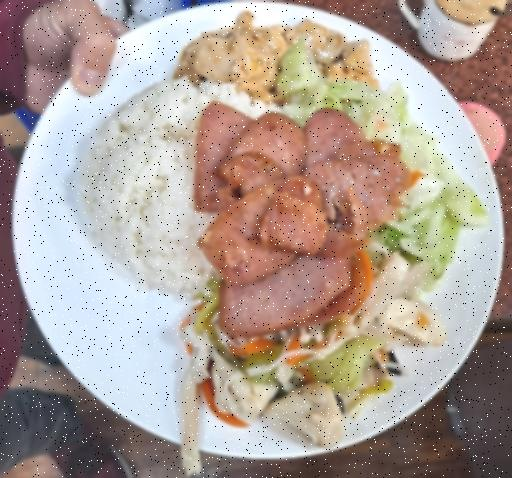big fried chicken leg: (7, 0, 512, 463)
big herbal chicken leg: (76, 80, 286, 296)
braised fish fillet: (285, 52, 484, 302), (170, 267, 432, 449), (184, 19, 378, 92)
braised pork: (192, 96, 410, 338)
